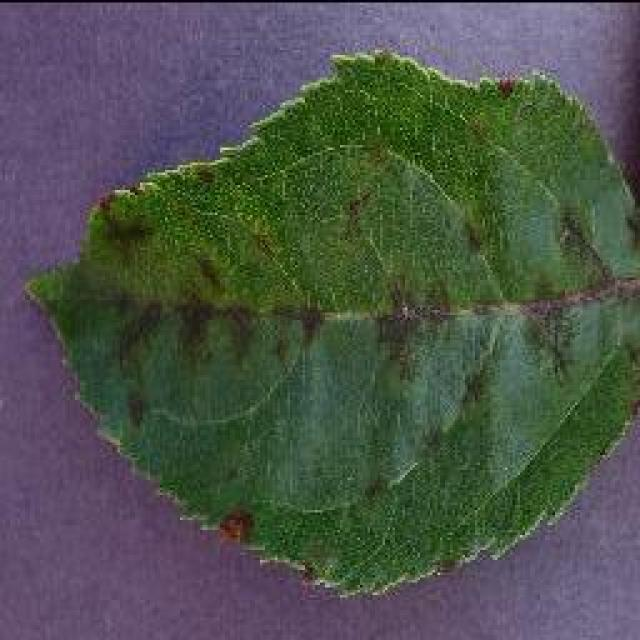apple scab disease: (22, 45, 638, 597)
